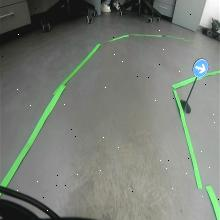right: (192, 59, 208, 78)
